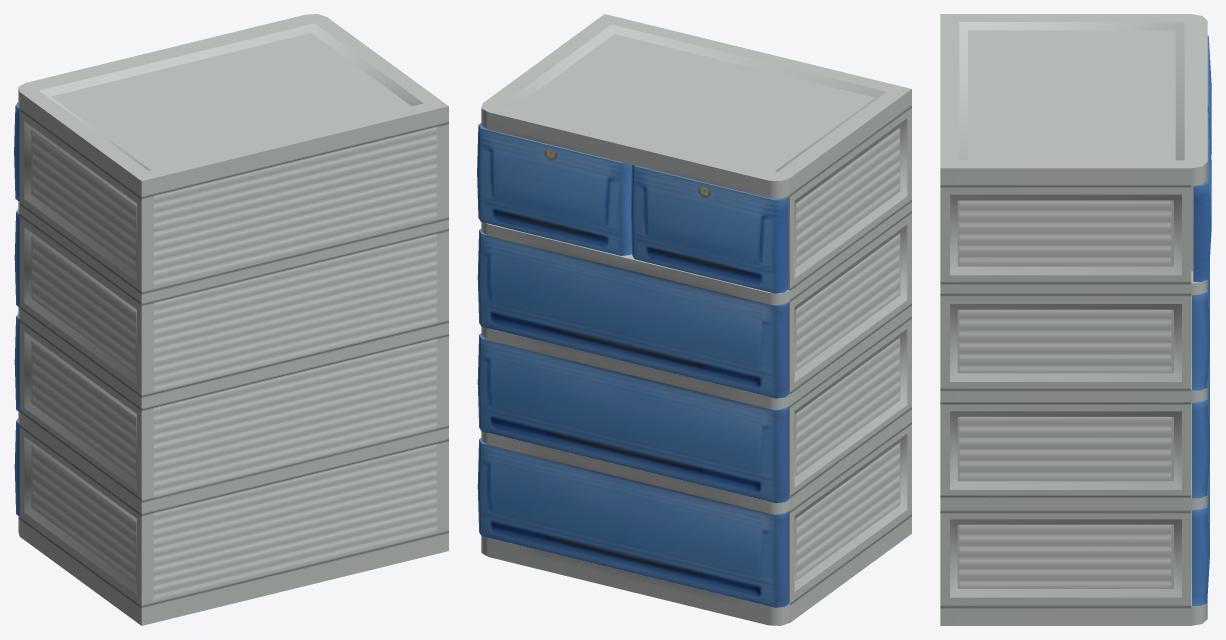
The model's file is DrawerCabinet.fbx.
3 renders of one model, left to right at view 1: azimuth 30°, elevation 25°; view 2: azimuth 150°, elevation 25°; view 3: azimuth 270°, elevation 25°, orthographic. The views are drawn at different scales.
Parts seen in each view (by area): view 1: Cabinet_body; view 2: Cabinet_body, Drawer_B, Drawer_C, Drawer_A, DrawerSmoll_L, DrawerSmoll_R; view 3: Cabinet_body, DrawerSmoll_R, Drawer_B, Drawer_C, Drawer_A, DrawerSmoll_L.
Part boxes in pixels (x1,y1,x2,y2): Cabinet_body: (18, 14, 448, 625); Cabinet_body: (481, 14, 911, 625); Drawer_B: (477, 333, 789, 503); Drawer_C: (477, 438, 789, 607); Drawer_A: (477, 229, 789, 398); DrawerSmoll_L: (630, 164, 788, 293); DrawerSmoll_R: (477, 123, 631, 255); Cabinet_body: (940, 14, 1207, 625); DrawerSmoll_R: (1191, 112, 1211, 281); Drawer_B: (1192, 344, 1209, 498); Drawer_C: (1192, 451, 1209, 605); Drawer_A: (1192, 260, 1209, 390); DrawerSmoll_L: (1207, 35, 1211, 154).
Bounding box in the file's own units: 129 × 178 × 95.53.
